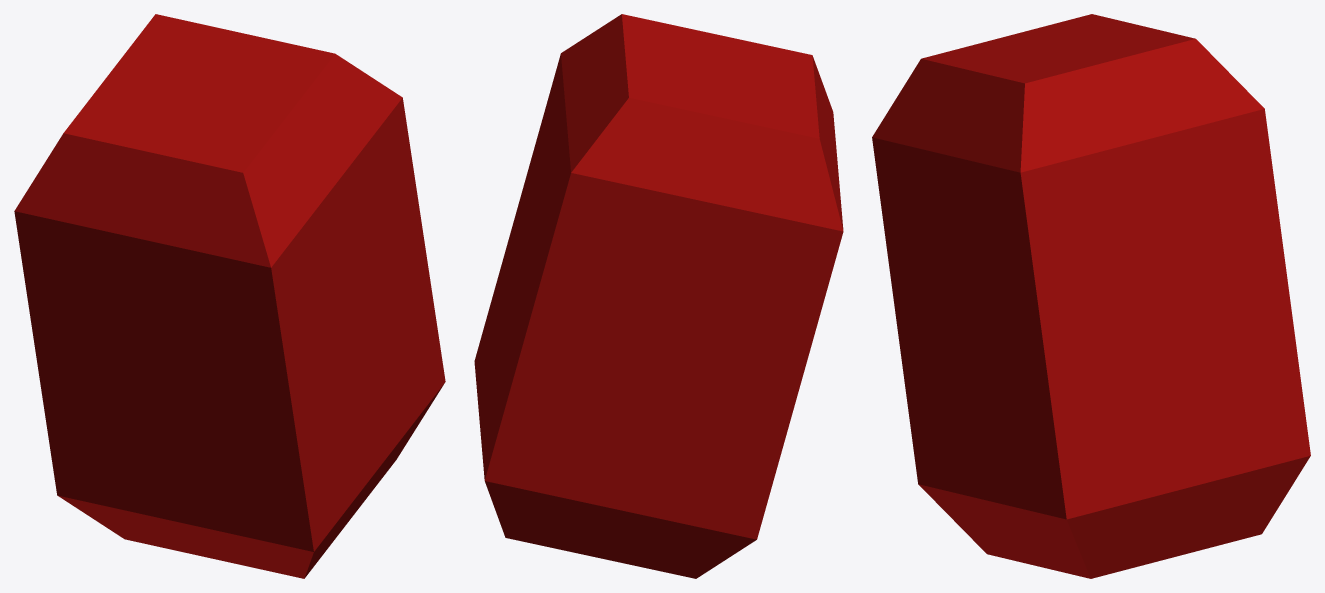
File: town_jewel0012.obj
The picture shows the model from 3 angles, left to right: view 1: azimuth 30°, elevation 25°; view 2: azimuth 150°, elevation 25°; view 3: azimuth 270°, elevation 25°; orthographic projection. The views are drawn at different scales.
Visible parts, largest first — view 1: RedJewel; view 2: RedJewel; view 3: RedJewel.
Part boxes in pixels (bbox=[...]): RedJewel: bbox=[14, 14, 445, 578]; RedJewel: bbox=[474, 14, 843, 578]; RedJewel: bbox=[872, 14, 1310, 578].
Size of the model in its own units: 1.03 by 1.21 by 0.9745.
